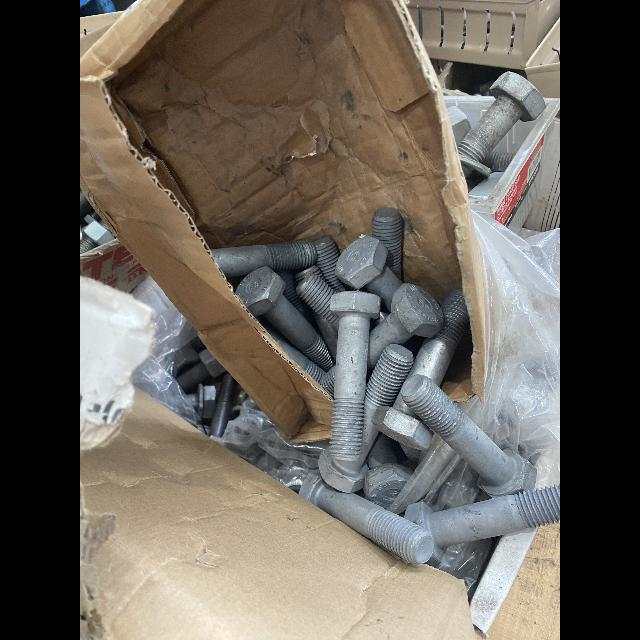Galvanized Steel: (402, 375, 537, 498), (318, 344, 413, 493), (299, 470, 435, 565), (404, 483, 560, 565), (235, 266, 335, 373), (458, 71, 548, 177), (330, 291, 382, 460), (368, 283, 444, 370), (406, 289, 469, 387), (263, 324, 327, 383), (211, 240, 317, 275), (370, 391, 433, 449), (362, 439, 413, 507), (278, 270, 319, 333), (313, 237, 358, 293), (296, 273, 339, 331), (372, 207, 403, 280), (177, 349, 226, 393), (311, 310, 338, 365), (80, 221, 115, 254), (445, 105, 472, 146), (187, 383, 215, 418), (296, 265, 322, 288), (483, 152, 515, 169), (320, 366, 335, 399)
